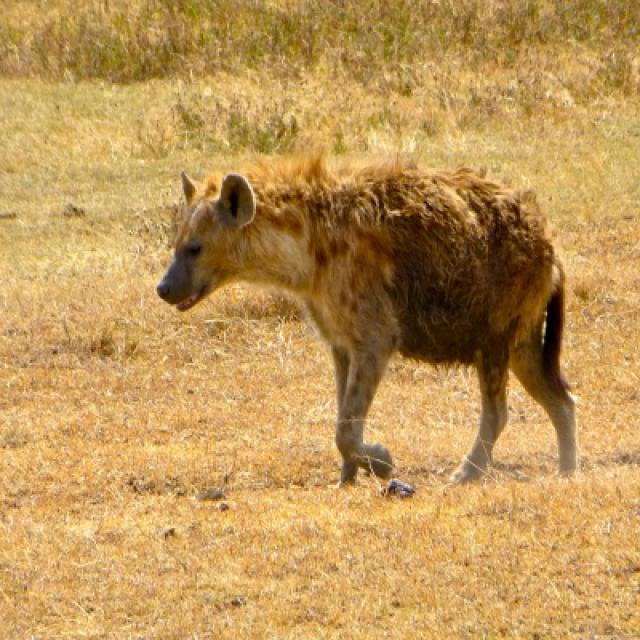hyena: (154, 158, 581, 498)
